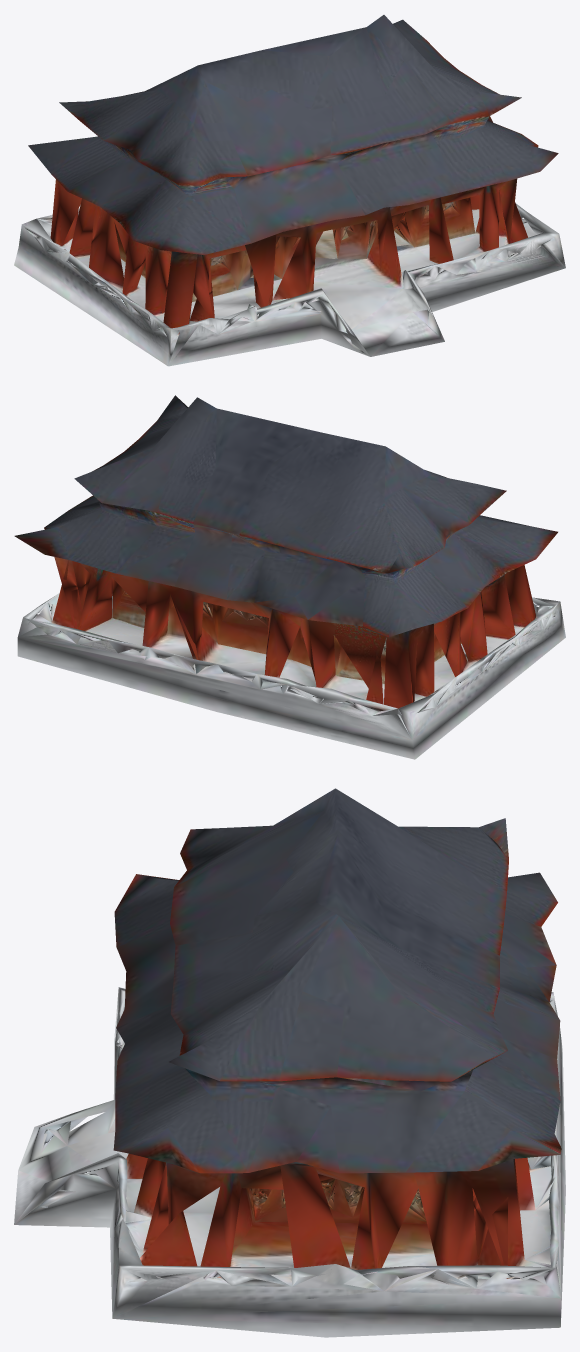
File: chinese_pavilion.glb
3 renders of one model, top to bottom at view 1: azimuth 30°, elevation 25°; view 2: azimuth 150°, elevation 25°; view 3: azimuth 270°, elevation 25°, orthographic. The views are drawn at different scales.
Parts seen in each view (by area): view 1: tripo_node_b859d4d5-2587-45fb-8ad1-8e749d0ec6e1; view 2: tripo_node_b859d4d5-2587-45fb-8ad1-8e749d0ec6e1; view 3: tripo_node_b859d4d5-2587-45fb-8ad1-8e749d0ec6e1.
Boxes of the visible parts, x1,y1,x2,y2 form: tripo_node_b859d4d5-2587-45fb-8ad1-8e749d0ec6e1: (14,15,565,366); tripo_node_b859d4d5-2587-45fb-8ad1-8e749d0ec6e1: (14,395,565,759); tripo_node_b859d4d5-2587-45fb-8ad1-8e749d0ec6e1: (14,788,565,1337).
Size of the model in its own units: 0.9299 by 0.5185 by 0.7513.
Materials: 1 (1 with a texture image).
